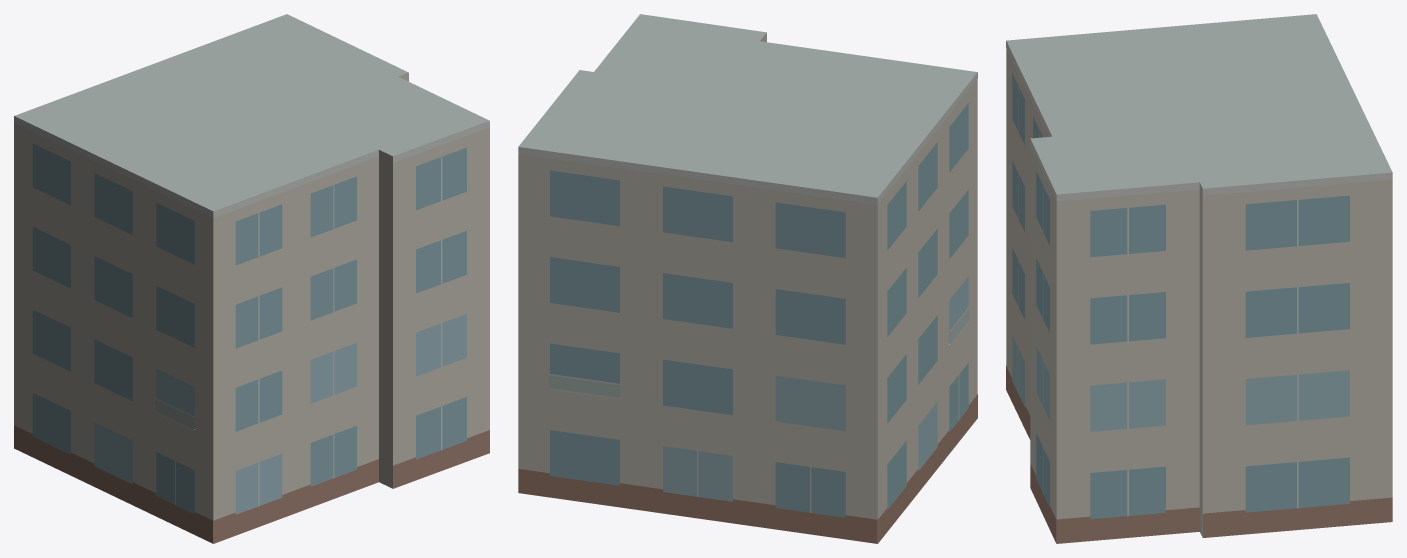
File: survey-upis-32619415.glb
3 renders of one model, left to right at view 1: azimuth 30°, elevation 25°; view 2: azimuth 150°, elevation 25°; view 3: azimuth 270°, elevation 25°, orthographic. The views are drawn at different scales.
Parts seen in each view (by area): view 1: survey-upis-32619415.tmp; view 2: survey-upis-32619415.tmp; view 3: survey-upis-32619415.tmp.
Part boxes in pixels (x1=…): survey-upis-32619415.tmp: x1=14, y1=14, x2=489, y2=543; survey-upis-32619415.tmp: x1=518, y1=14, x2=977, y2=543; survey-upis-32619415.tmp: x1=1006, y1=14, x2=1392, y2=543.
Bounding box in the file's own units: 13.42 × 12.1 × 12.14.
